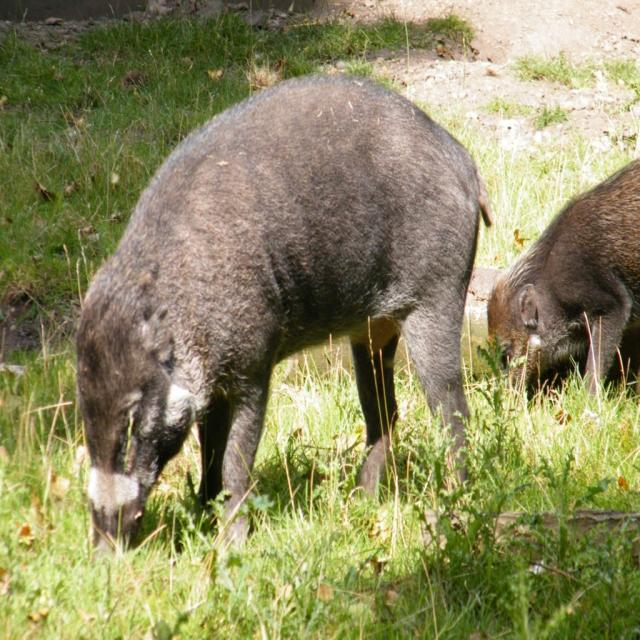Pig: (73, 70, 495, 567), (487, 157, 640, 399)
